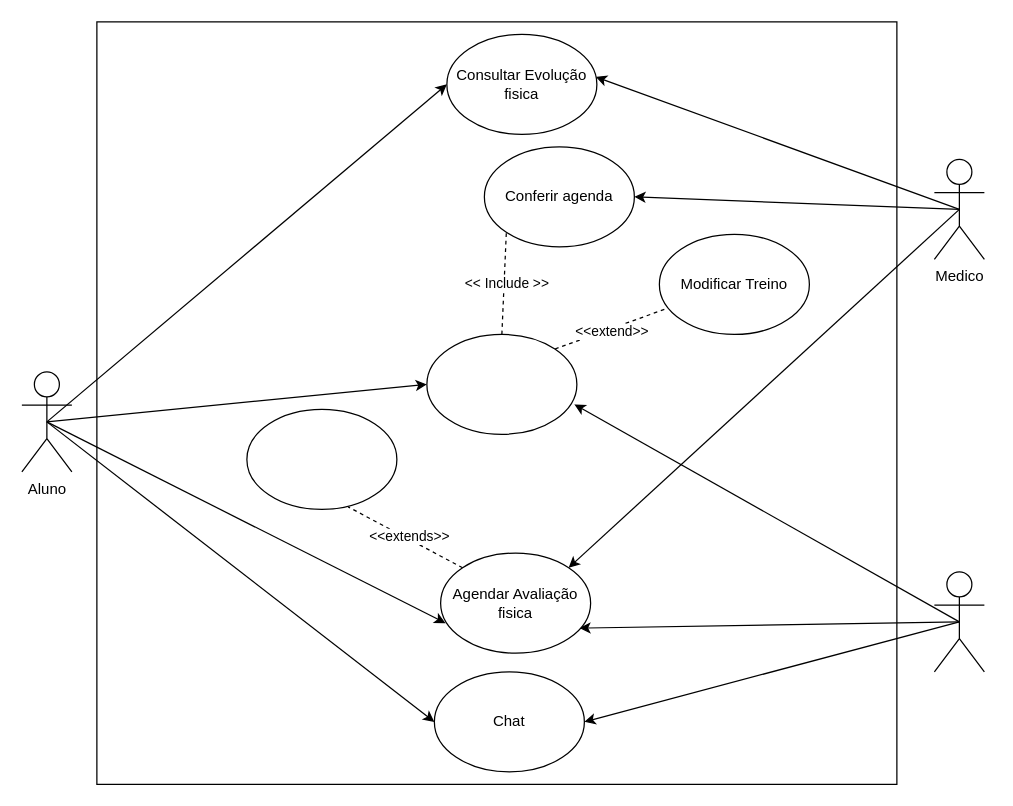
Some shapes in this 1013 by 806 pixel diagram are drawn without their labels. The shapes that lost their labels are listed below. From the top down, each one's centre as x and y in pixels, then its label:
point 501,383: Consultar Treino
point 321,458: Registrar Evolução fisica
point 958,621: Professor
